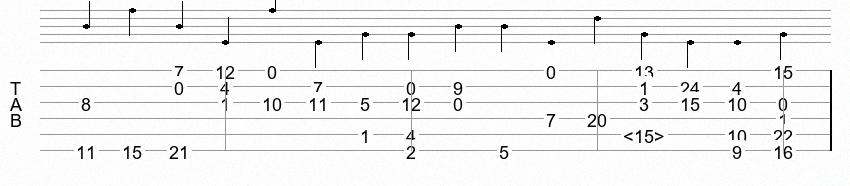0: (174, 78, 188, 95), (267, 62, 281, 79), (406, 78, 420, 95), (453, 94, 467, 111), (546, 62, 560, 79), (778, 94, 792, 111)
1: (220, 94, 234, 111), (360, 126, 374, 143), (639, 78, 653, 95), (778, 110, 792, 127)
10: (262, 94, 286, 111), (727, 94, 751, 111), (727, 126, 751, 143)
11: (76, 142, 100, 159), (308, 94, 332, 111)
12: (215, 62, 239, 79), (401, 94, 425, 111)
13: (634, 62, 658, 79)
15: (122, 142, 146, 159), (680, 94, 704, 111), (773, 62, 797, 79)
16: (773, 142, 797, 159)
2: (406, 142, 420, 159)
20: (587, 110, 611, 127)
21: (169, 142, 193, 159)
22: (773, 126, 797, 143)
24: (680, 78, 704, 95)
3: (639, 94, 653, 111)
4: (220, 78, 234, 95), (406, 126, 420, 143), (732, 78, 746, 95)
5: (360, 94, 374, 111), (499, 142, 513, 159)
7: (174, 62, 188, 79), (313, 78, 327, 95), (546, 110, 560, 127)
8: (81, 94, 95, 111)
9: (453, 78, 467, 95), (732, 142, 746, 159)
harmonic: (623, 126, 669, 143)
